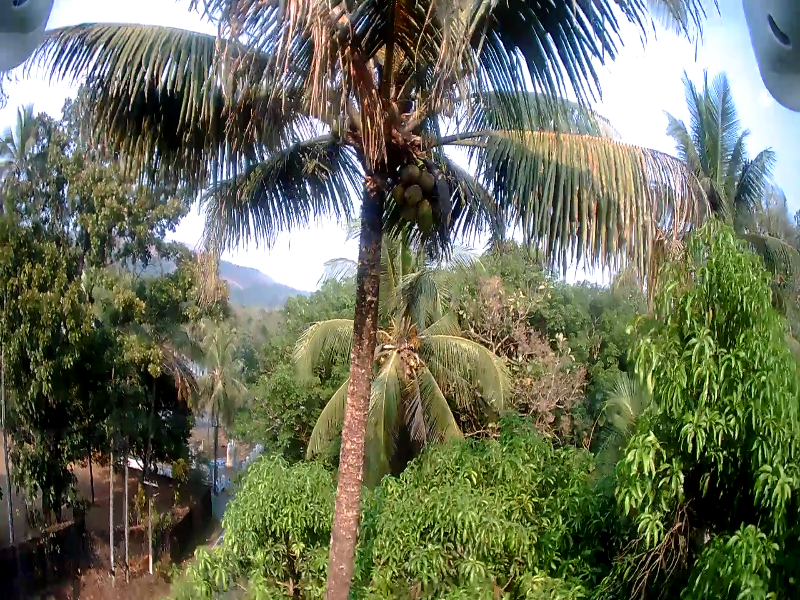coconut: (419, 200, 433, 230), (402, 200, 416, 220), (402, 163, 415, 184), (428, 92, 440, 113), (393, 180, 404, 200), (442, 97, 452, 119), (406, 183, 416, 201), (421, 169, 428, 190)
